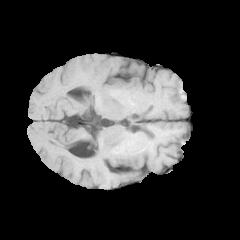glioma: (78, 131, 157, 174)
